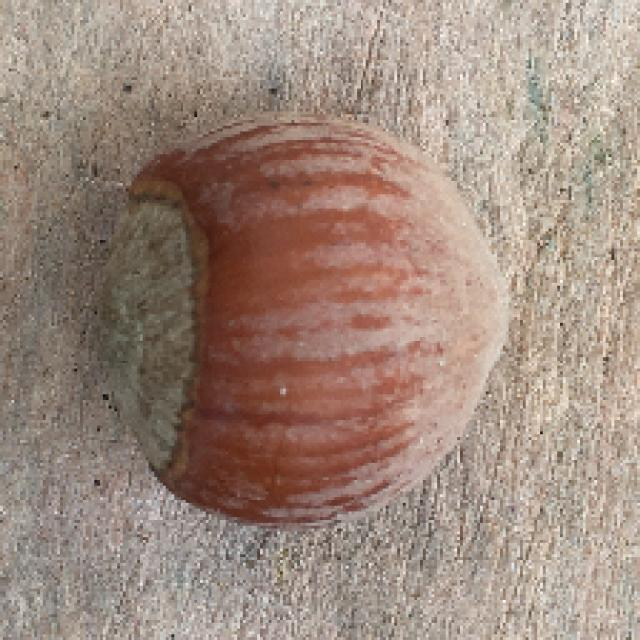QualityHazelnut: (102, 115, 510, 532)
